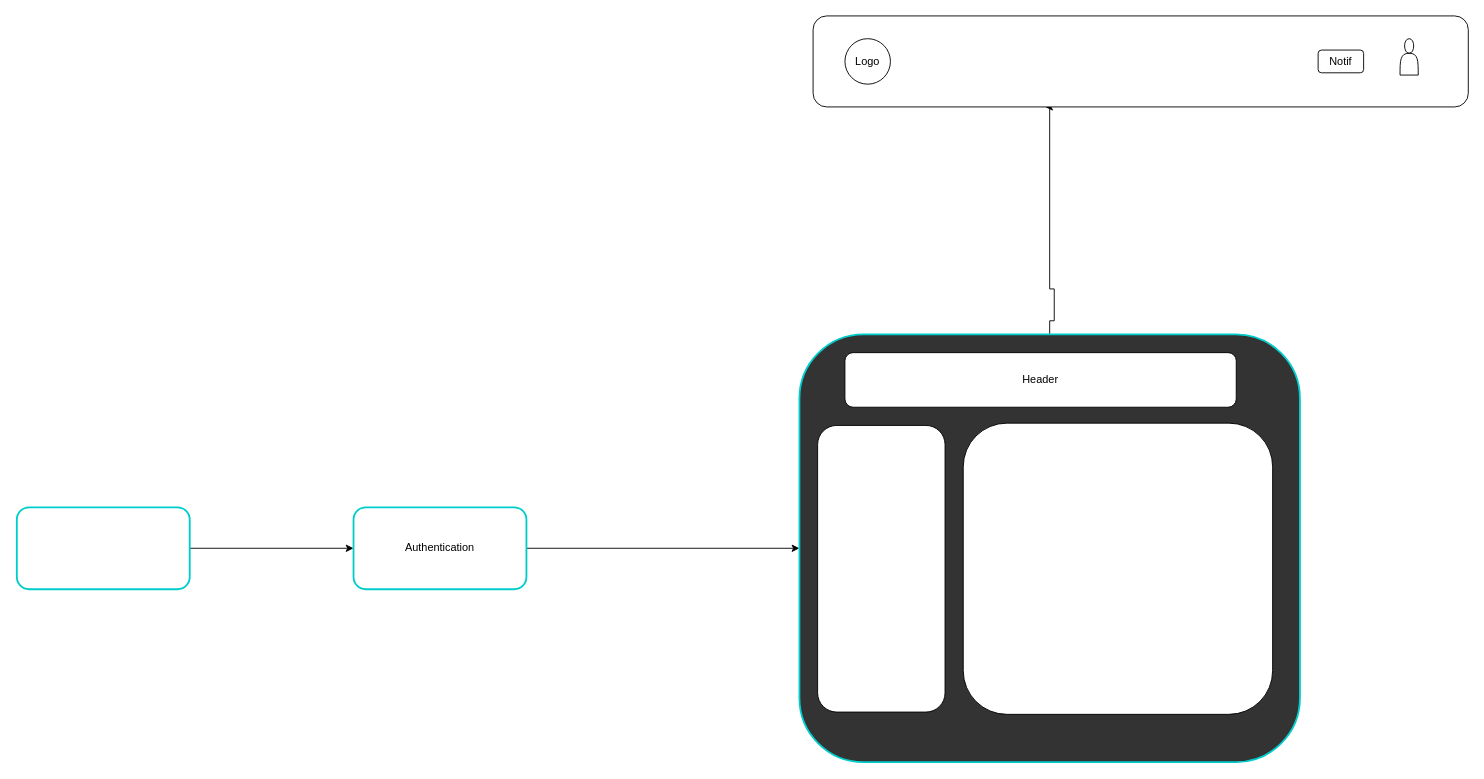
Some shapes in this 1484 by 779 pixel diagram are drawn without their labels. Each missing label, with the centre of its shape:
Content: the point at 1117,568
Home Page: the point at 102,548
Sidebar: the point at 881,568
